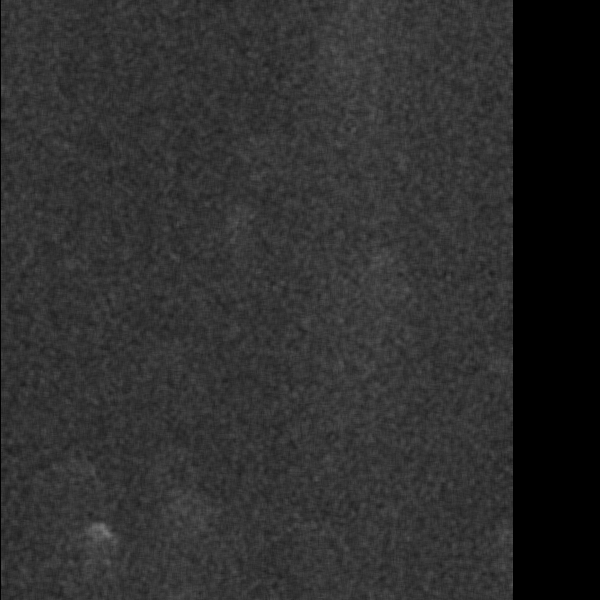spark: (84, 519, 119, 550), (226, 205, 245, 246)
